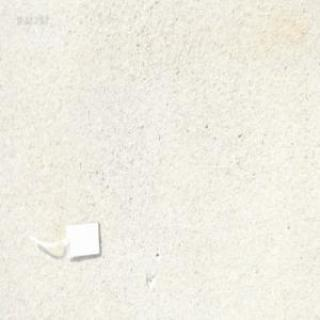LuggageTagtrack_idkeyframe: (27, 216, 101, 261)
